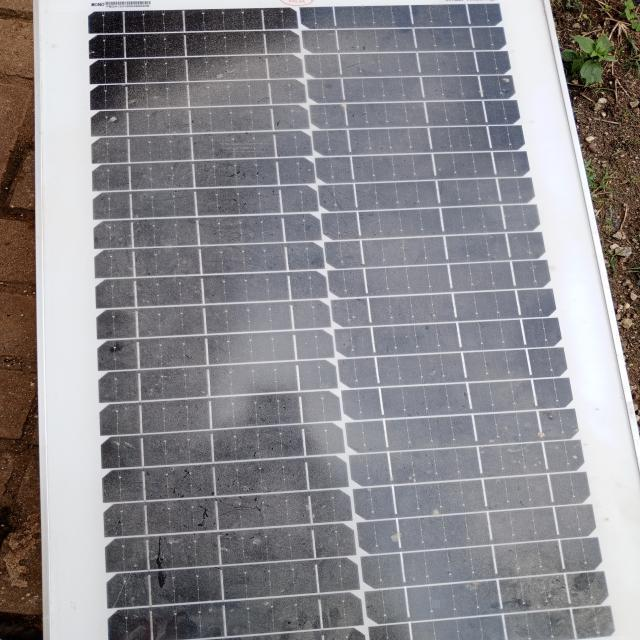Anomaly Solar Panel: (83, 1, 611, 639)
Surface Contaminant: (79, 1, 616, 639)
